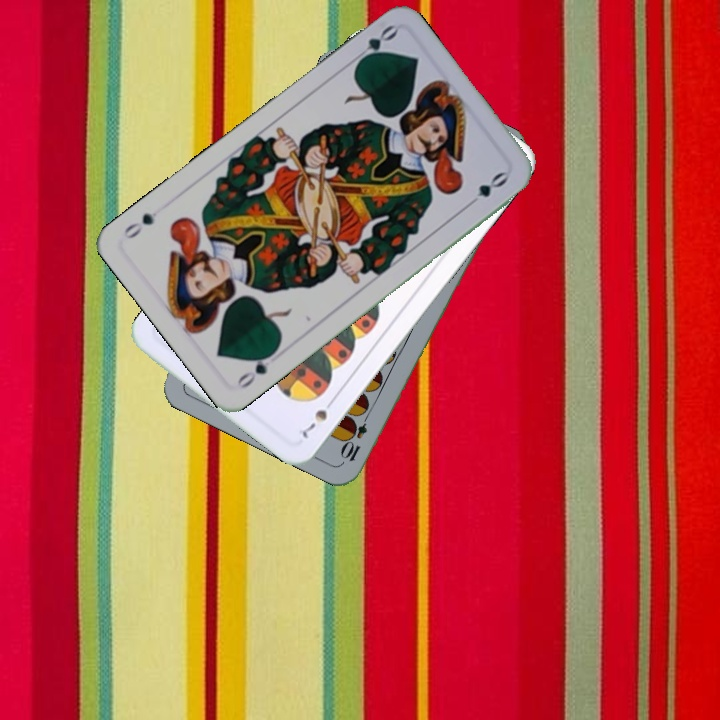E10: (338, 407, 373, 464)
GO: (348, 21, 401, 69), (232, 346, 279, 392)
S7: (298, 393, 338, 441)
